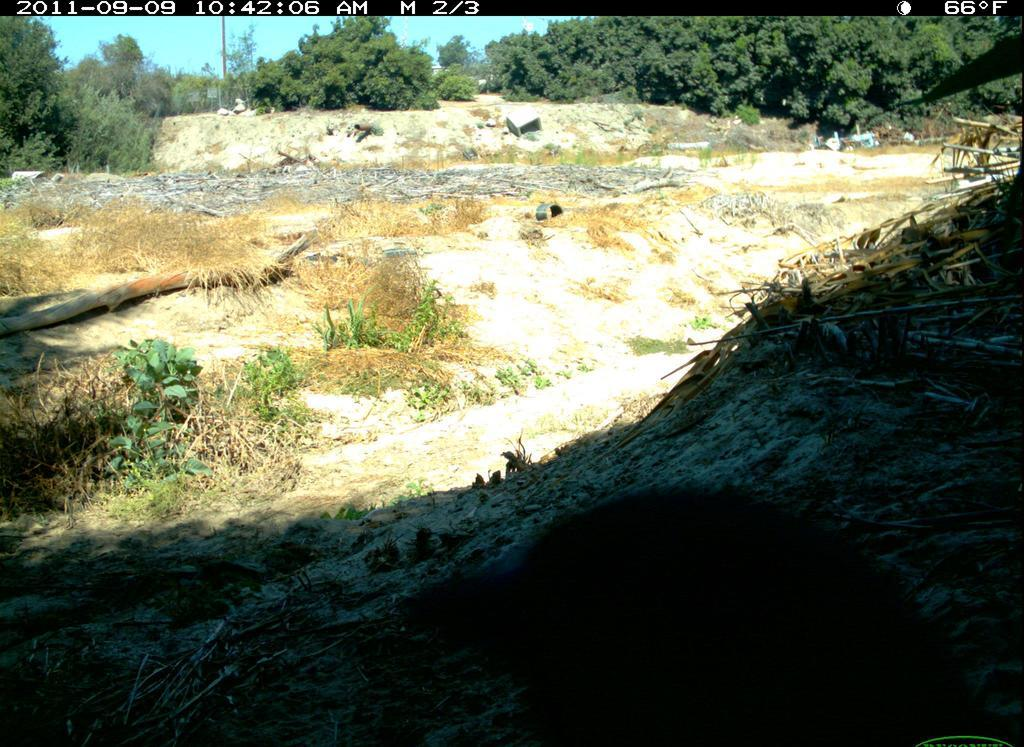bird: (393, 486, 1018, 747)
